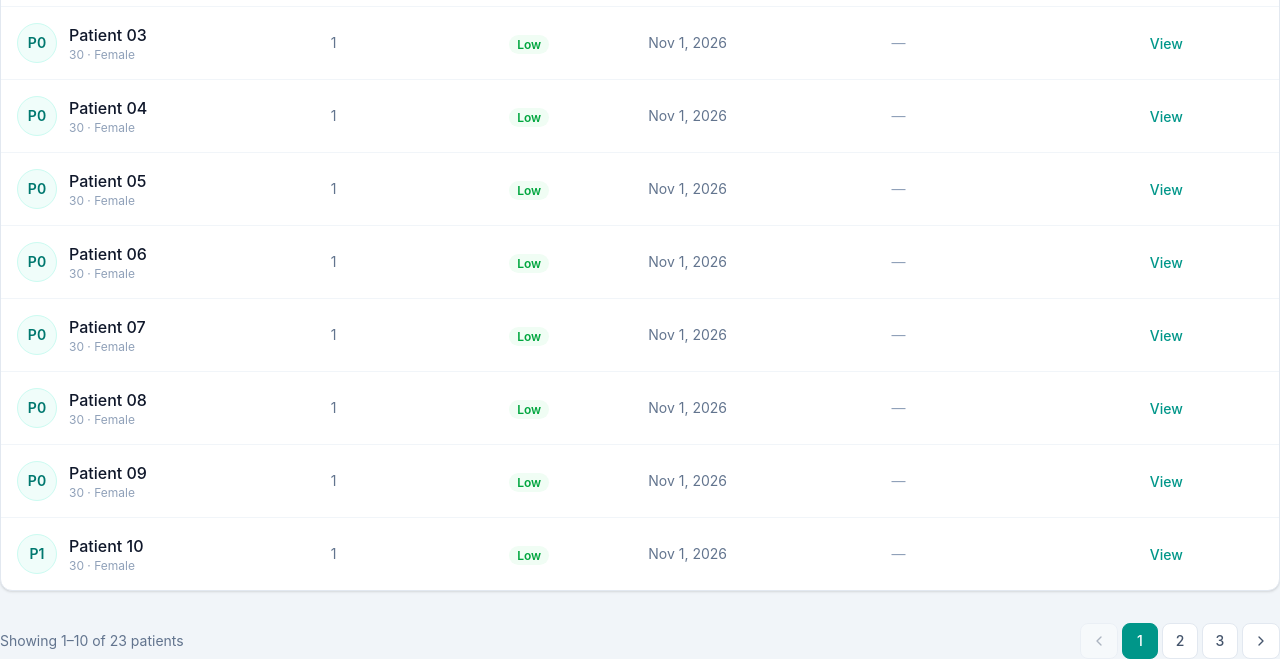
Test: PatientsPage — pages › searching goes back to page 1 and pages through the matches only
(page scrolled)
Step 1. Click the button named "Page 3" → (1220, 641), box [1202, 623, 1238, 658]
(page scrolled)
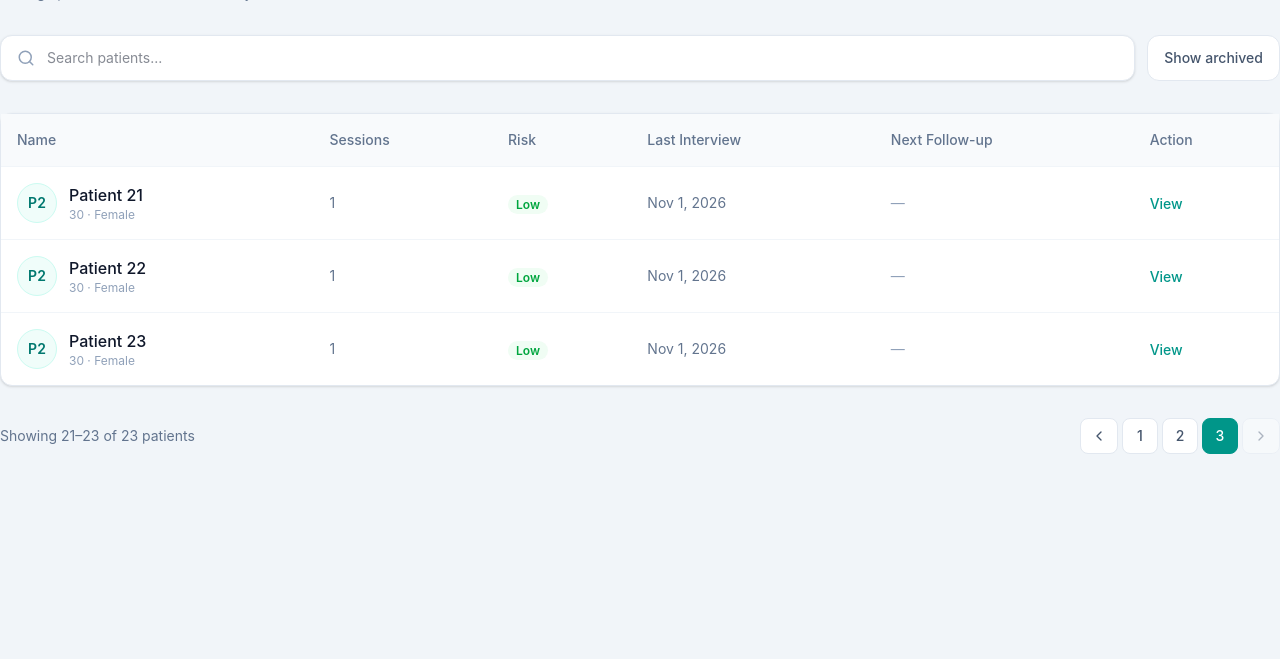
Step 2. Type "Patient 2" into the field labelled "Search patients" → (583, 58), box [47, 48, 1118, 68]
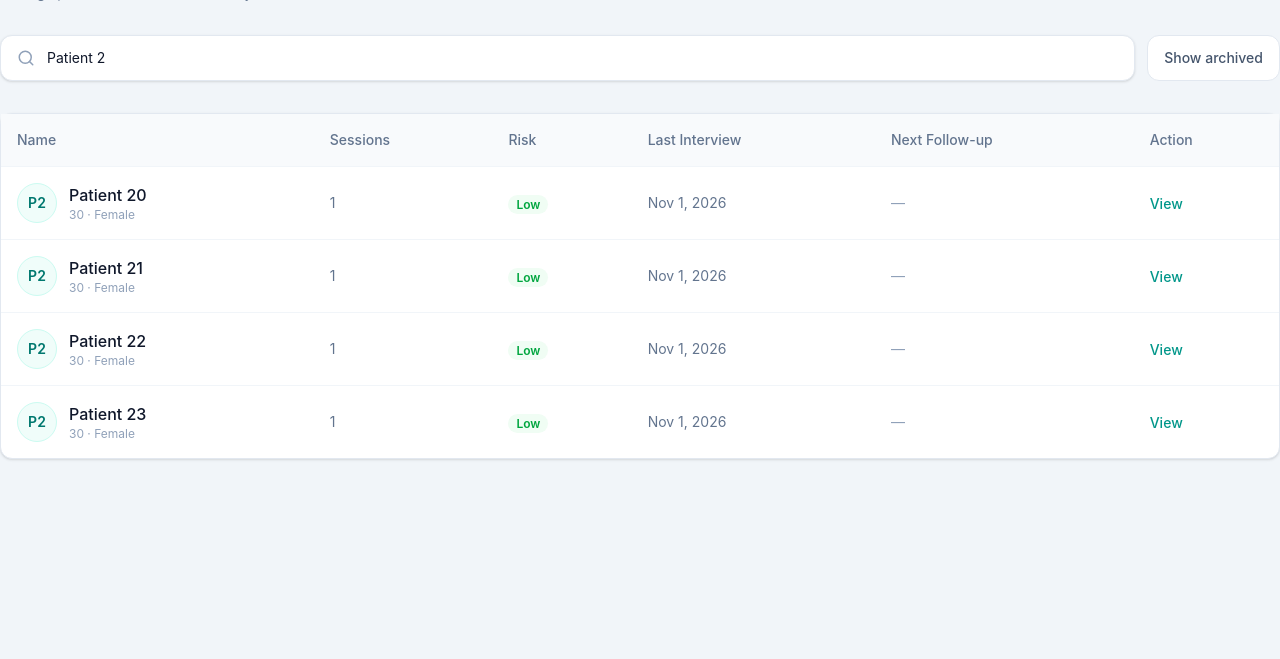
Check: the text "Patient 20" is shown, box [69, 183, 147, 207]
Check: the number of links "View" is 4, box [1150, 195, 1183, 212]; [1150, 268, 1183, 285]; [1150, 341, 1183, 358]; [1150, 414, 1183, 431]
Check: the navigation bar "Pages" is gone
